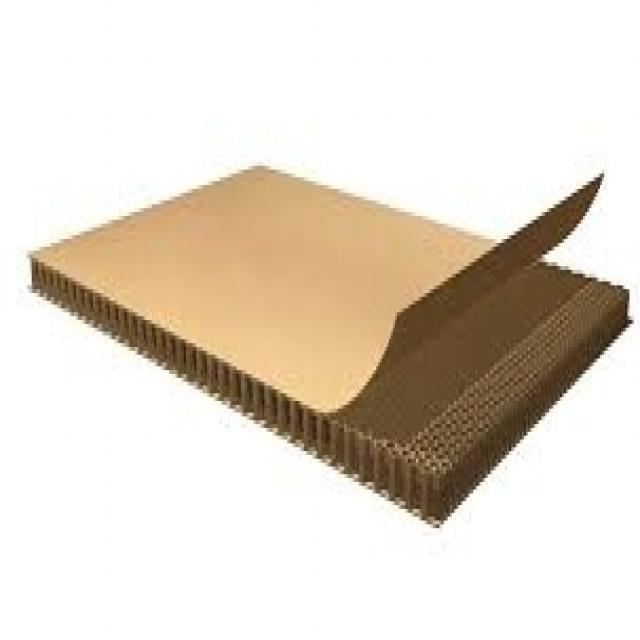cardboard paper: (31, 166, 626, 519)
